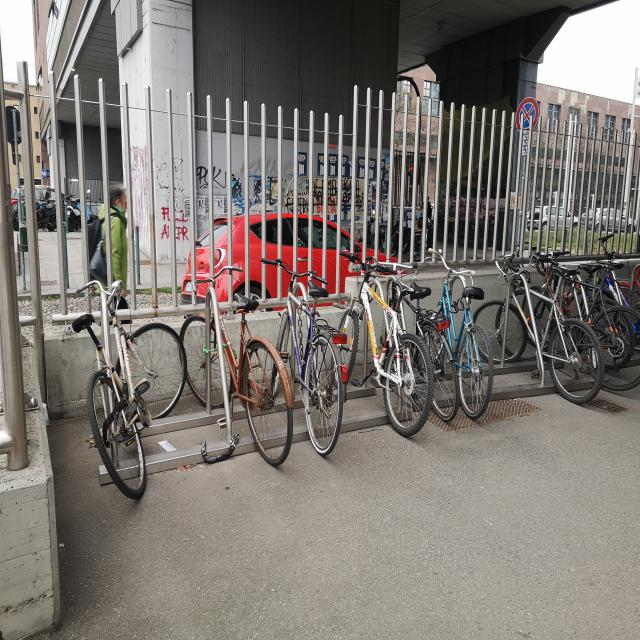Bicycle: (74, 269, 188, 555), (182, 282, 297, 496), (326, 244, 428, 462), (480, 240, 595, 430), (361, 242, 461, 452), (522, 242, 639, 420), (270, 256, 360, 469), (404, 255, 489, 432), (592, 240, 638, 328)
